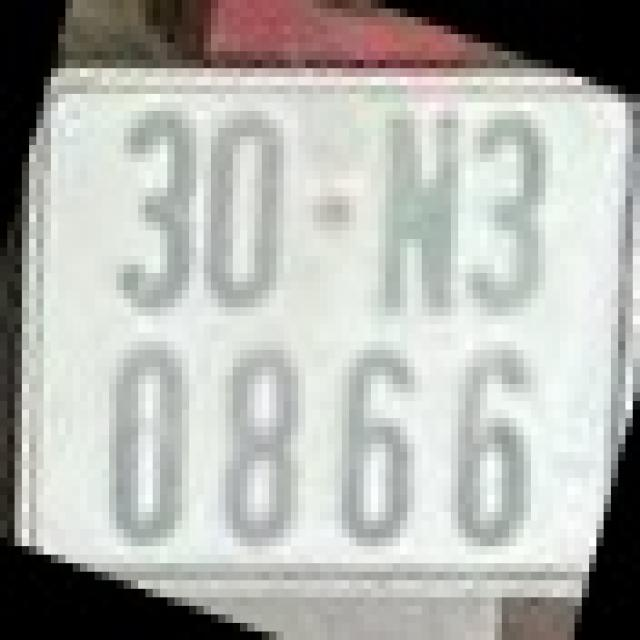0: (109, 341, 189, 546), (204, 111, 284, 307)
3: (116, 102, 196, 308), (473, 111, 545, 307)
6: (451, 341, 531, 546), (342, 341, 414, 546)
8: (218, 341, 306, 546)
N: (378, 111, 458, 307)
